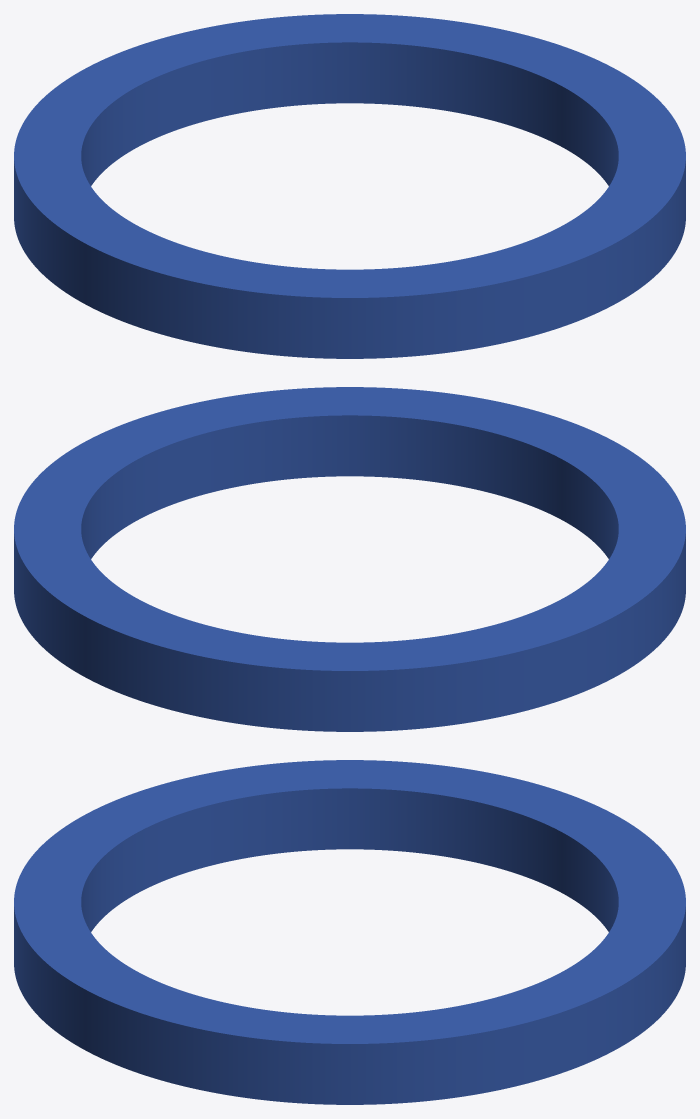
Rendered from hollow_cylinder.dae.
The picture shows the model from 3 angles, top to bottom: view 1: azimuth 30°, elevation 25°; view 2: azimuth 150°, elevation 25°; view 3: azimuth 270°, elevation 25°; orthographic projection.
Parts seen in each view (by area): view 1: 5a81d43ca353200fe69d6cac; view 2: 5a81d43ca353200fe69d6cac; view 3: 5a81d43ca353200fe69d6cac.
Part boxes in pixels (x1=…): 5a81d43ca353200fe69d6cac: x1=14, y1=14, x2=685, y2=358; 5a81d43ca353200fe69d6cac: x1=14, y1=387, x2=685, y2=731; 5a81d43ca353200fe69d6cac: x1=14, y1=760, x2=685, y2=1104.
Bounding box in the file's own units: 5 × 5 × 0.5.
